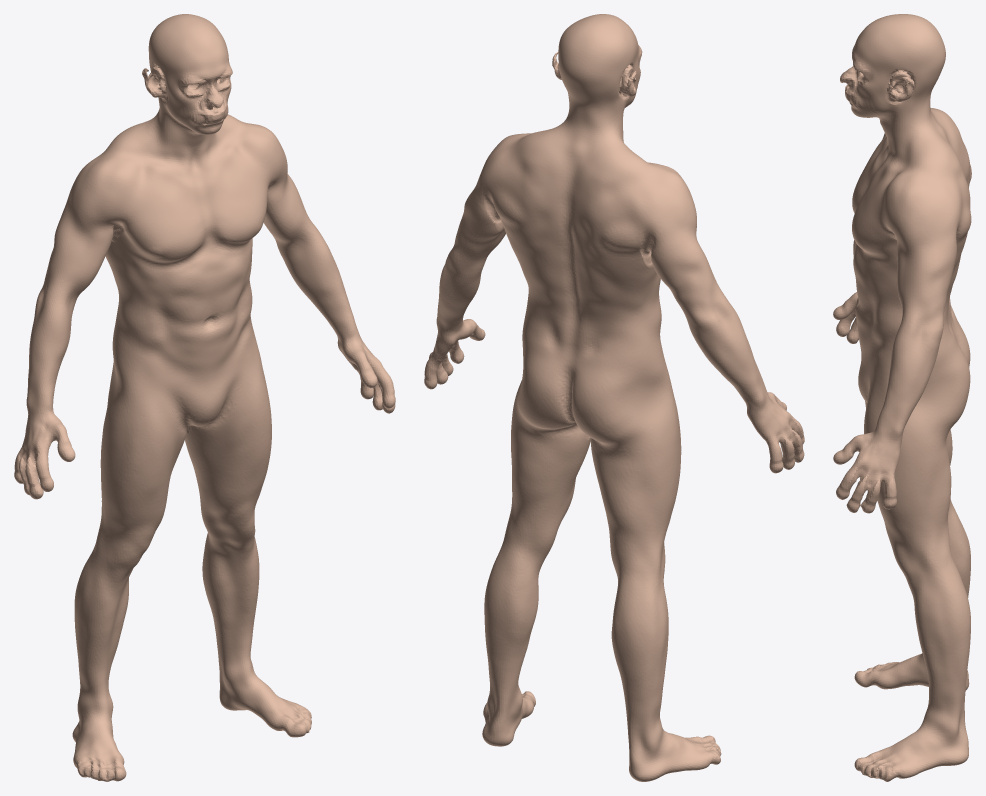
Rendered from male-v7.glb.
The picture shows the model from 3 angles, left to right: view 1: azimuth 30°, elevation 25°; view 2: azimuth 150°, elevation 25°; view 3: azimuth 270°, elevation 25°; orthographic projection. The views are drawn at different scales.
Visible parts, largest first — view 1: world; view 2: world; view 3: world.
Boxes of the visible parts, left/top/right/bottom form: world: left=14, top=14, right=395, bottom=781; world: left=424, top=14, right=804, bottom=781; world: left=833, top=14, right=971, bottom=781.
Size of the model in its own units: 0.8925 by 1.69 by 0.2994.
